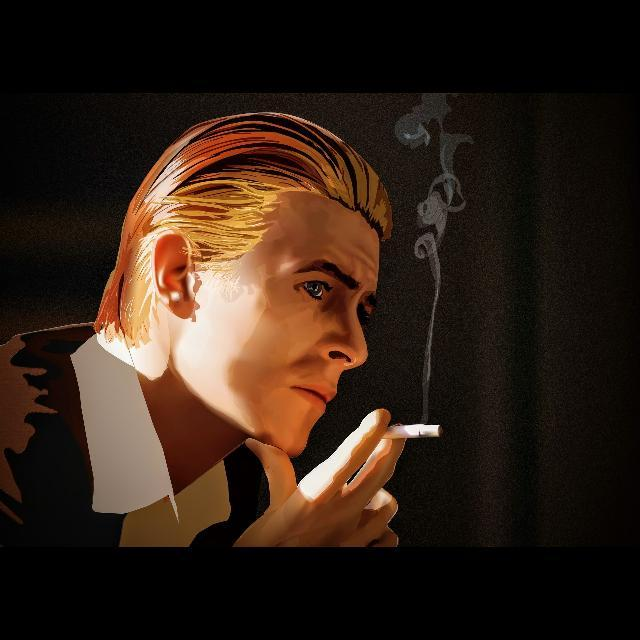rokok: (382, 420, 444, 442)
